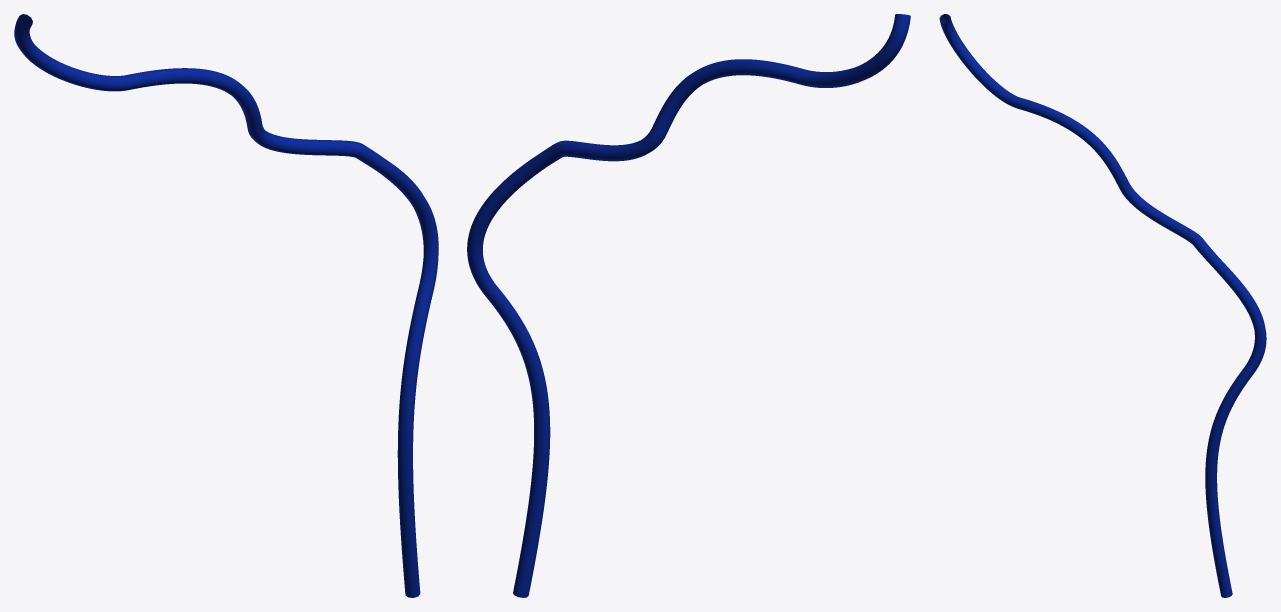
3 renders of one model, left to right at view 1: azimuth 30°, elevation 25°; view 2: azimuth 150°, elevation 25°; view 3: azimuth 330°, elevation 25°, orthographic. The views are drawn at different scales.
Parts seen in each view (by area): view 1: BezierCurve.001; view 2: BezierCurve.001; view 3: BezierCurve.001.
Boxes of the visible parts, box(x1,y1,x2,y2) form: BezierCurve.001: box(14, 14, 438, 597); BezierCurve.001: box(467, 14, 910, 597); BezierCurve.001: box(939, 14, 1266, 597).
Size of the model in its own units: 1.01 by 1.52 by 0.1191.
